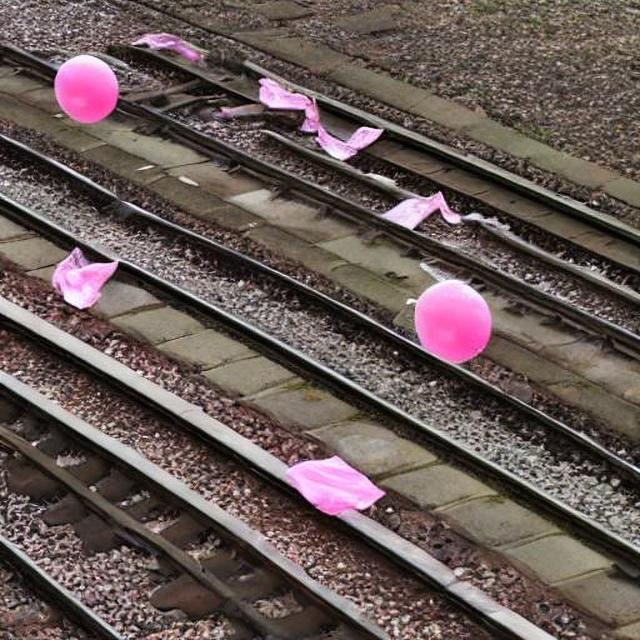balloon: (408, 272, 494, 362), (48, 53, 120, 121)
